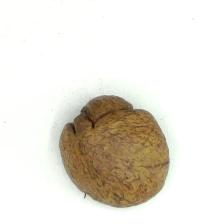NG: (60, 95, 152, 144)
